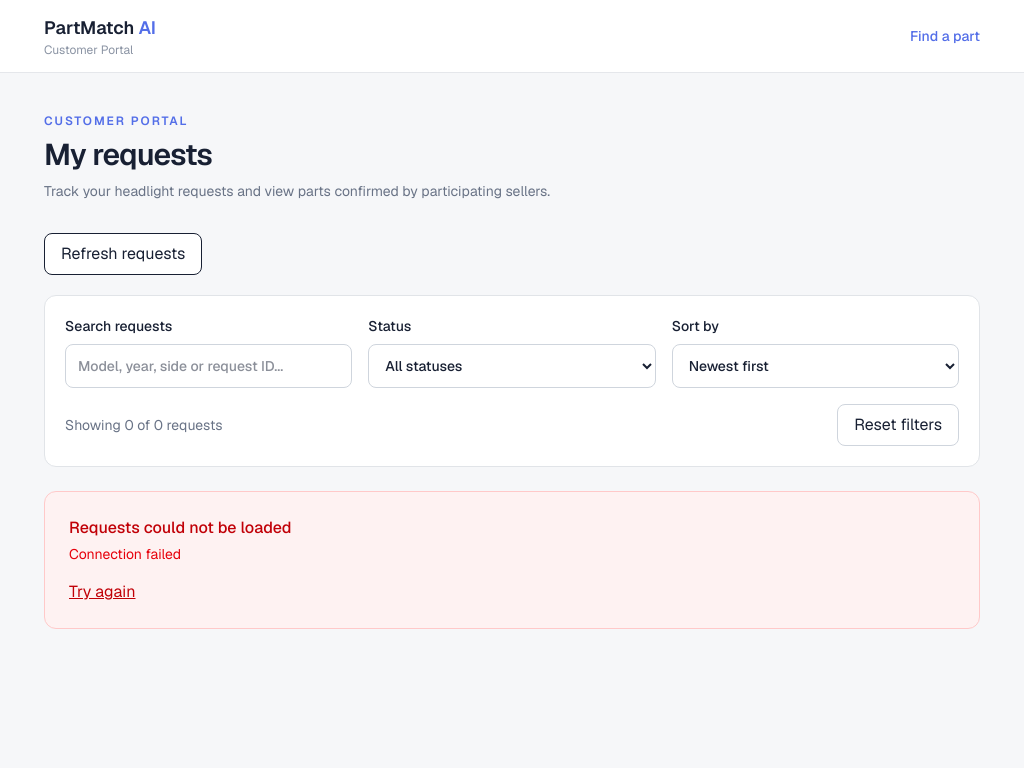
recovers from network errors with retry
Expected: the message shows "Connection failed", [69,545,181,563]
Click the button "Try again": click(102, 592) [69,580,136,604]
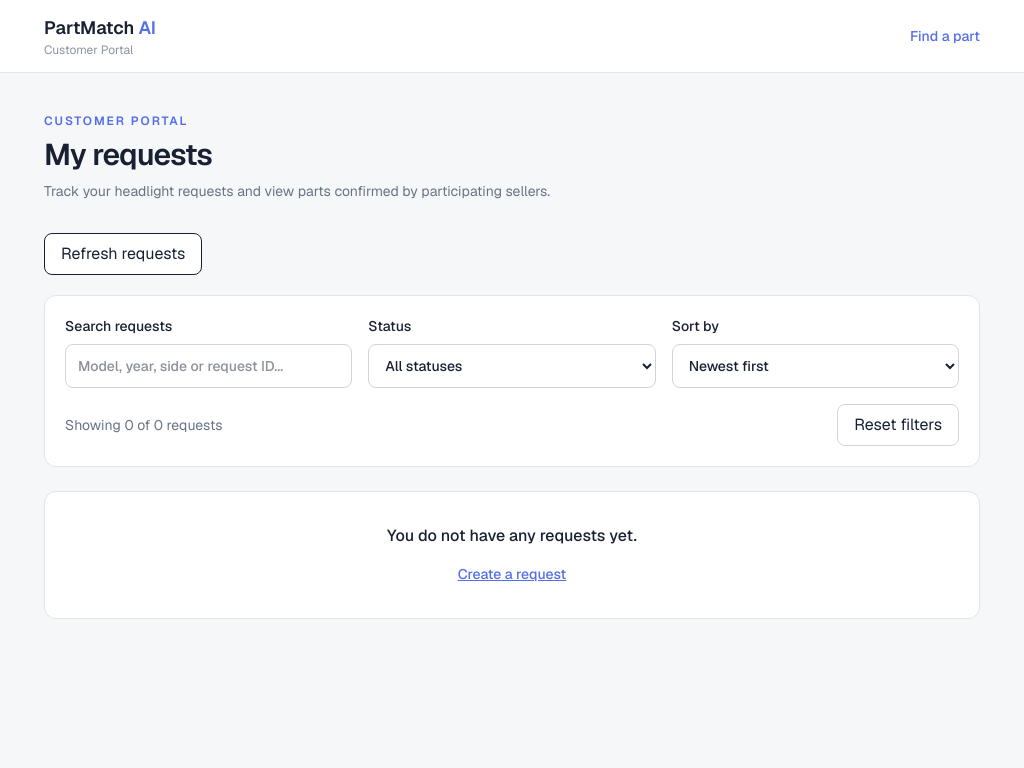
Expected: the text "You do not have any requests yet." is shown, [387,525,637,546]
